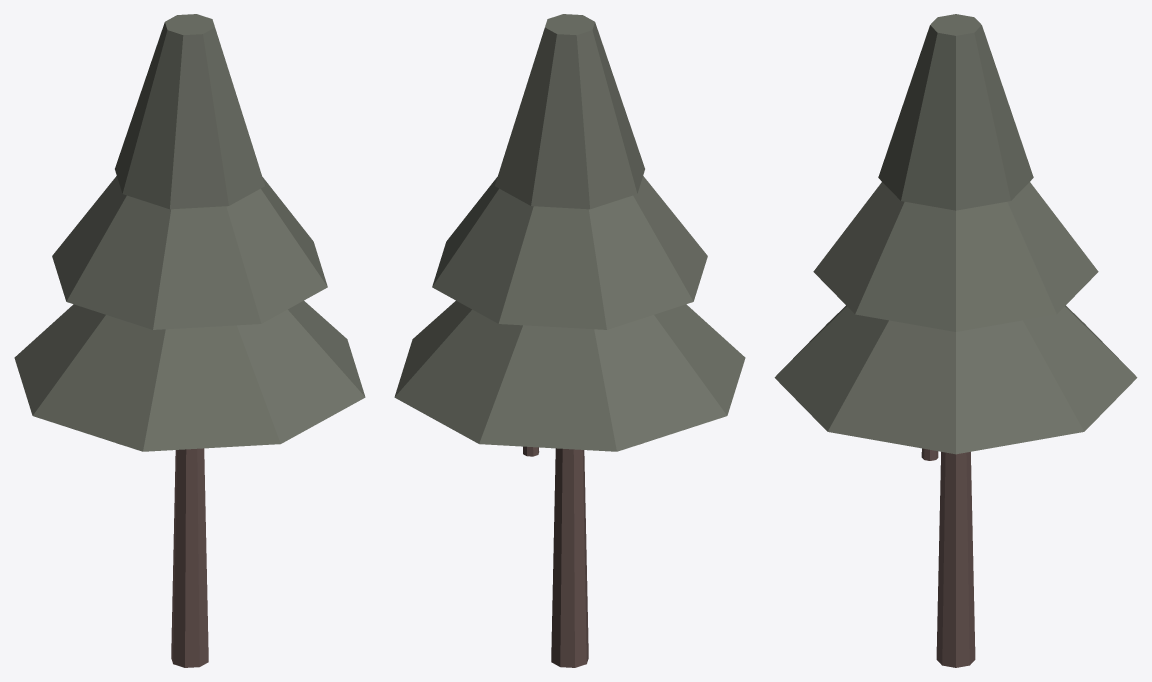
File: tree-leafy.glb
3 views of the same model, side by side, from view 1: azimuth 30°, elevation 25°; view 2: azimuth 150°, elevation 25°; view 3: azimuth 270°, elevation 25° (orthographic).
Parts seen in each view (by area): view 1: crown (×3), trunk; view 2: crown (×3), trunk; view 3: crown (×3), trunk.
Boxes of the visible parts, <box> form: crown (×3): <box>14,14,365,451</box>; trunk: <box>171,448,208,667</box>; crown (×3): <box>394,14,745,451</box>; trunk: <box>551,448,588,667</box>; crown (×3): <box>774,14,1137,454</box>; trunk: <box>936,452,975,667</box>.
Bounding box in the file's own units: 2.8 × 5.4 × 2.8.
